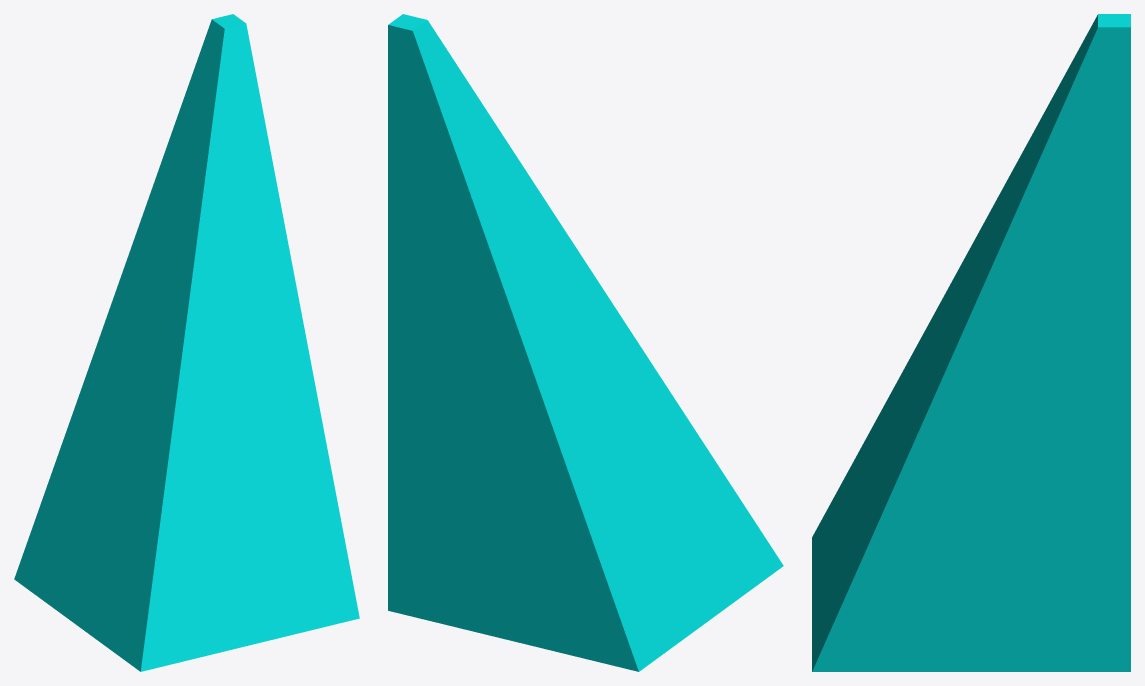
The model's file is SM_Bld_Wall_Slope_Corner_02_Collision.fbx.
3 renders of one model, left to right at view 1: azimuth 30°, elevation 25°; view 2: azimuth 150°, elevation 25°; view 3: azimuth 270°, elevation 25°, orthographic. The views are drawn at different scales.
Visible parts, largest first — view 1: SM_Bld_Wall_Slope_Corner_02_Collision; view 2: SM_Bld_Wall_Slope_Corner_02_Collision; view 3: SM_Bld_Wall_Slope_Corner_02_Collision.
Part boxes in pixels (x1=…): SM_Bld_Wall_Slope_Corner_02_Collision: x1=14, y1=14, x2=359, y2=671; SM_Bld_Wall_Slope_Corner_02_Collision: x1=388, y1=14, x2=783, y2=671; SM_Bld_Wall_Slope_Corner_02_Collision: x1=812, y1=14, x2=1130, y2=671.
Size of the model in its own units: 134 by 300 by 134.
